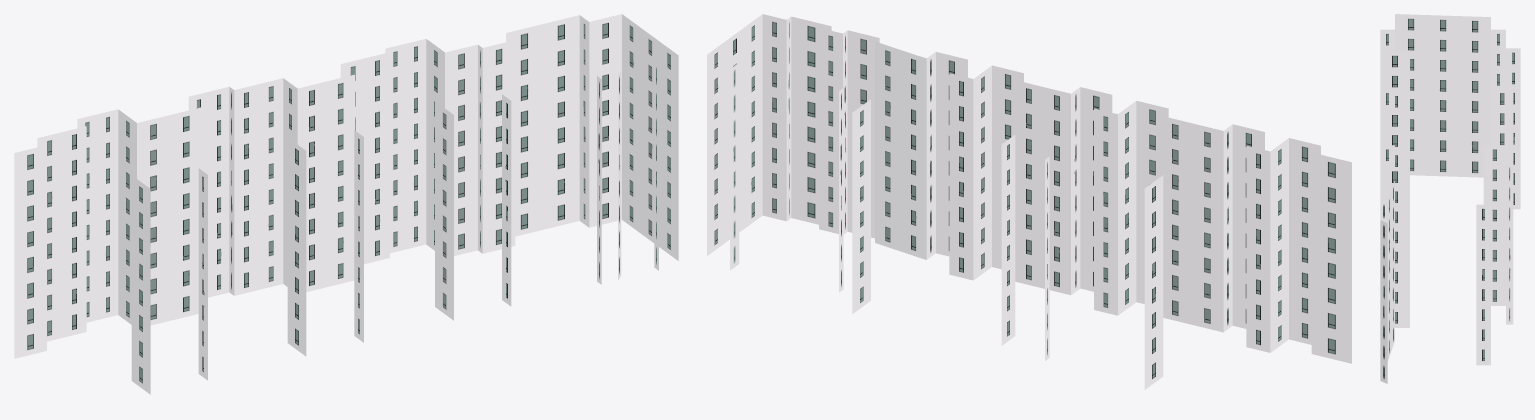
3 renders of one model, left to right at view 1: azimuth 30°, elevation 25°; view 2: azimuth 150°, elevation 25°; view 3: azimuth 270°, elevation 25°, orthographic. The views are drawn at different scales.
Size of the model in its own units: 74 by 24 by 19.
2 materials, 1 textured.
